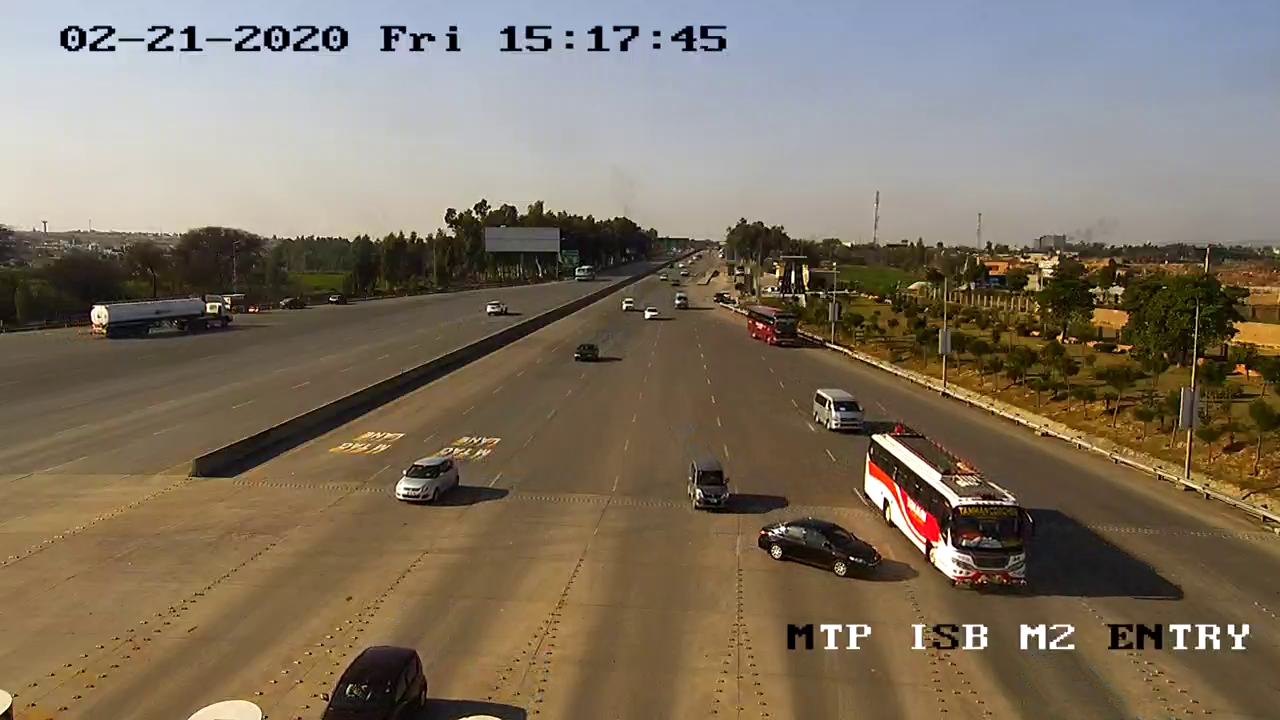f1: (746, 513, 884, 590), (389, 446, 467, 514), (676, 454, 736, 521)
f2: (806, 379, 865, 442)
f4: (861, 423, 1043, 596)
